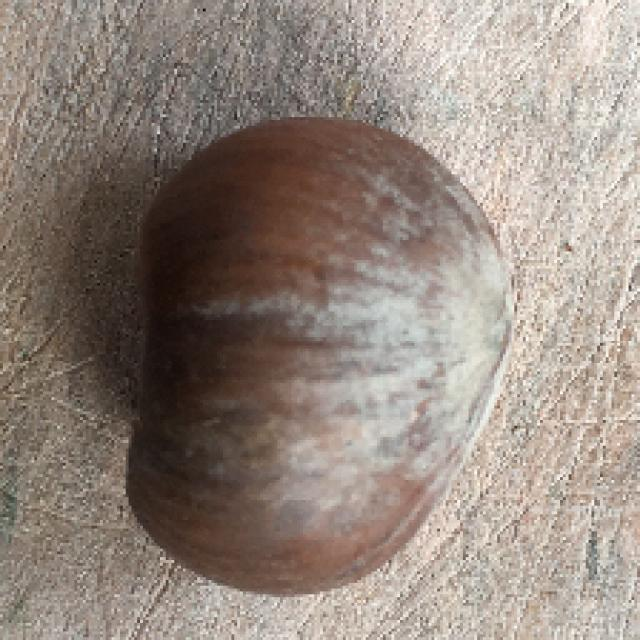DamagedHazelnut: (126, 116, 524, 595)
